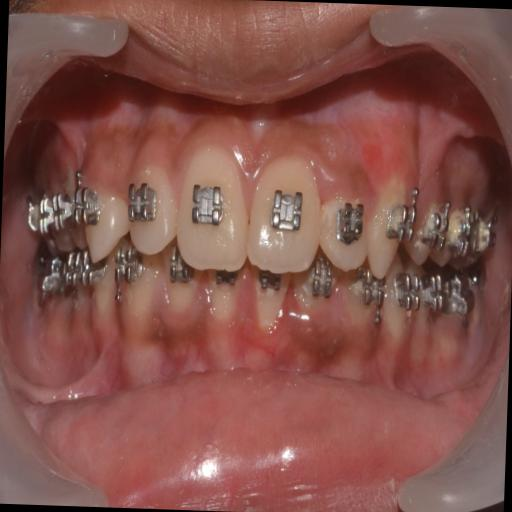correct_brace: (187, 177, 226, 233), (265, 182, 305, 236), (330, 196, 368, 250), (124, 175, 161, 229)
incorrect_brace: (124, 155, 180, 261), (317, 186, 374, 278)
